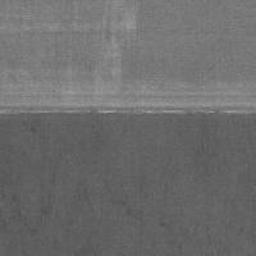Welding line: (0, 104, 256, 115)
